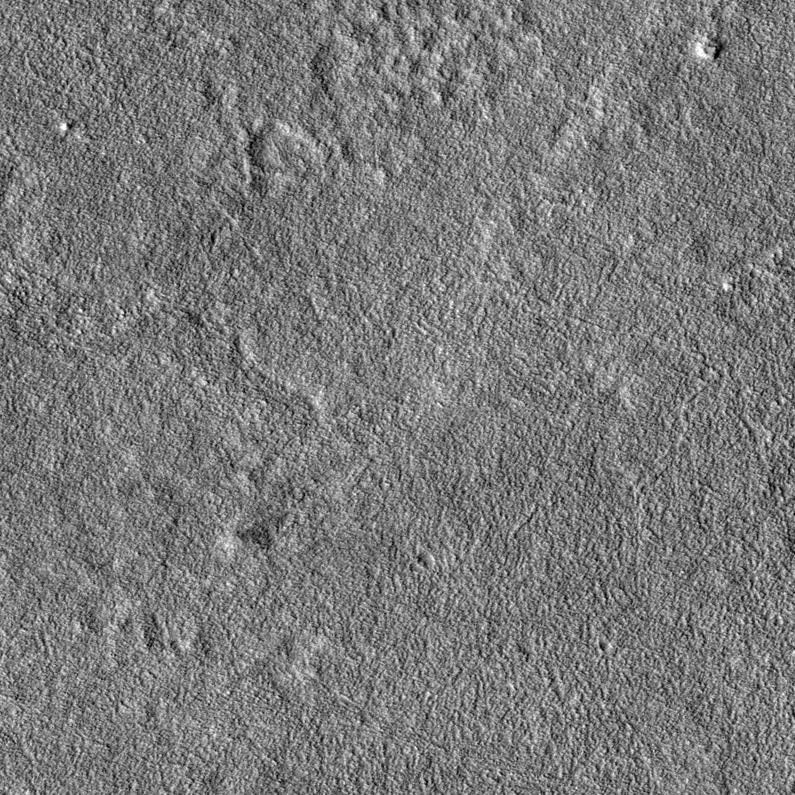dust_devil: (223, 522, 277, 559)
